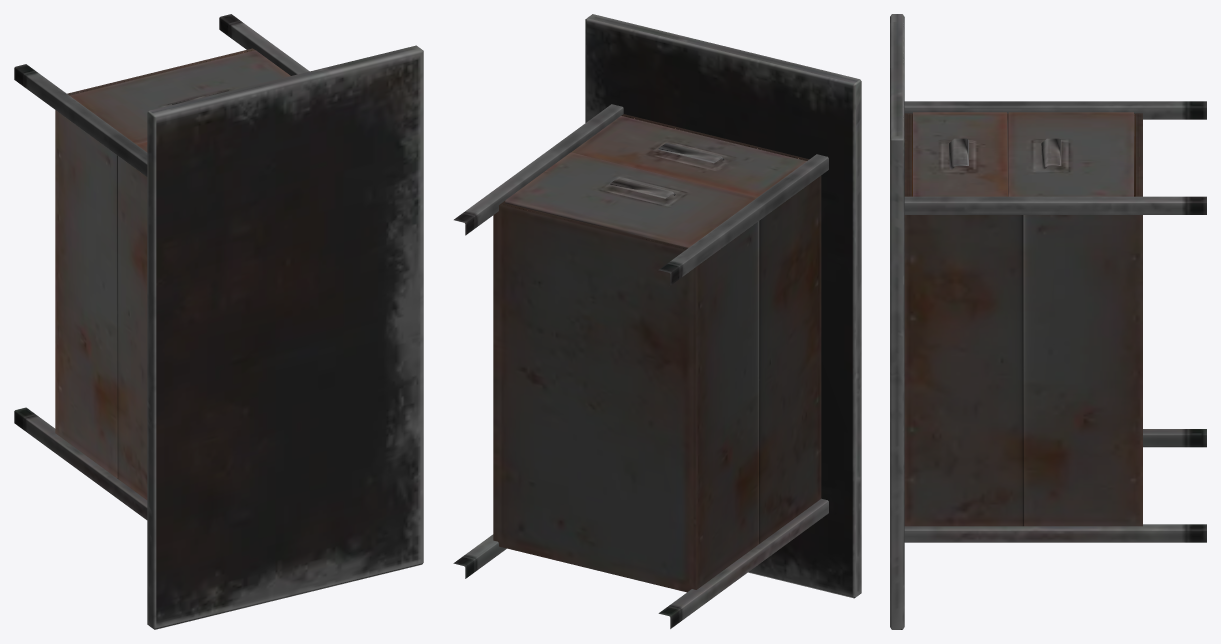
File: desk_b.glb
3 views of the same model, side by side, from view 1: azimuth 30°, elevation 25°; view 2: azimuth 150°, elevation 25°; view 3: azimuth 270°, elevation 25° (orthographic). The views are drawn at different scales.
Parts seen in each view (by area): view 1: desk_b; view 2: desk_b; view 3: desk_b.
Part boxes in pixels (x1,y1,x2,y2): desk_b: [14, 14, 423, 629]; desk_b: [453, 14, 861, 628]; desk_b: [890, 14, 1206, 629].
Bounding box in the file's own units: 0.6683 × 1.21 × 0.71.
Materials: 1 (1 with a texture image).
